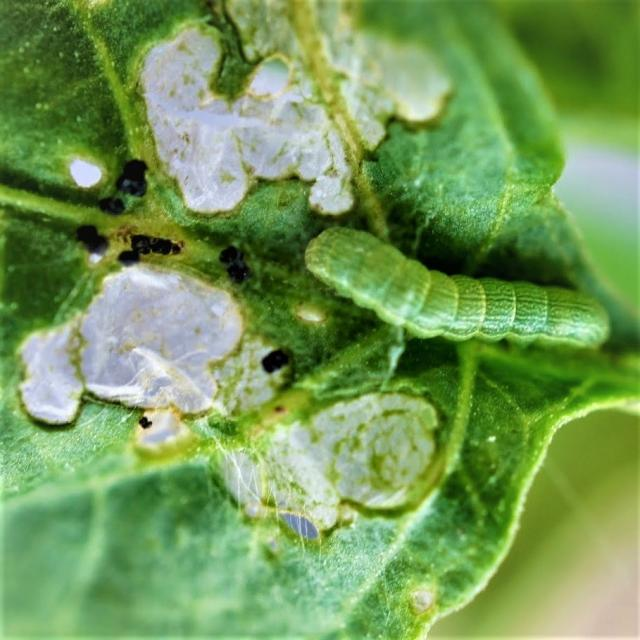armyworm: (303, 218, 612, 366)
